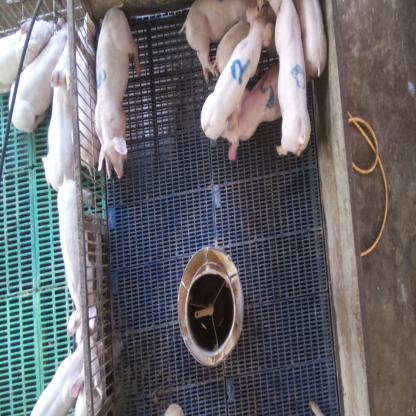3: (96, 67, 106, 89)
5: (260, 74, 275, 108)
8: (231, 58, 250, 83)
N-A: (292, 64, 306, 90)
